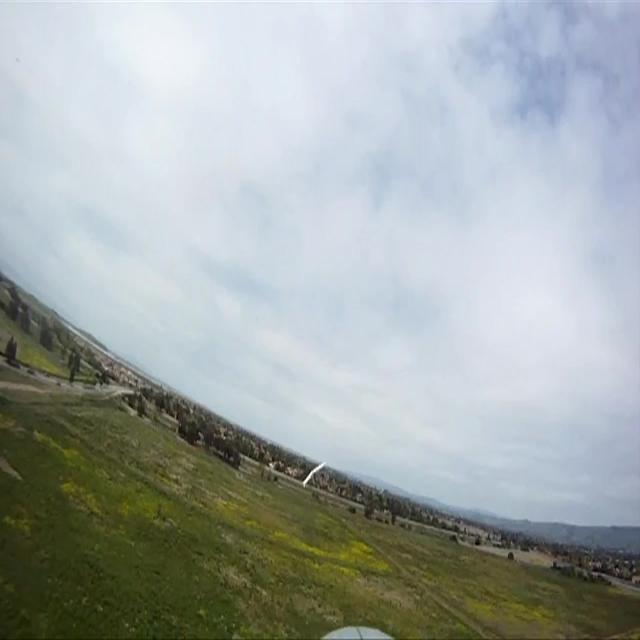iha: (301, 460, 326, 487)
